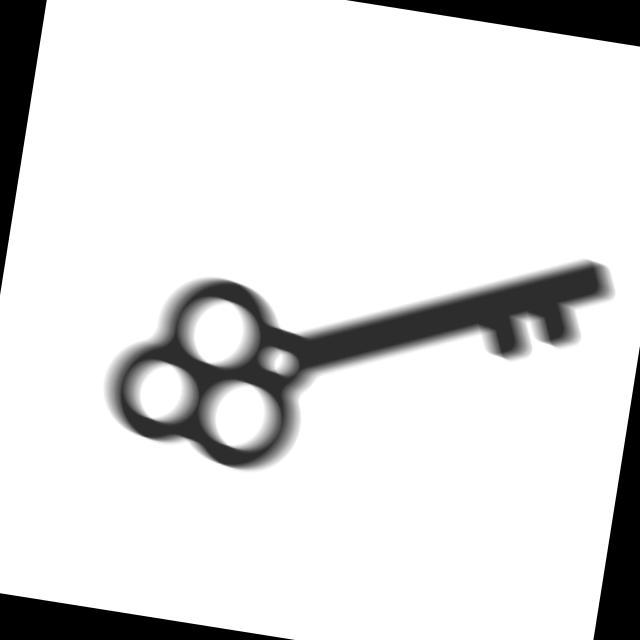key: (90, 186, 624, 533)
